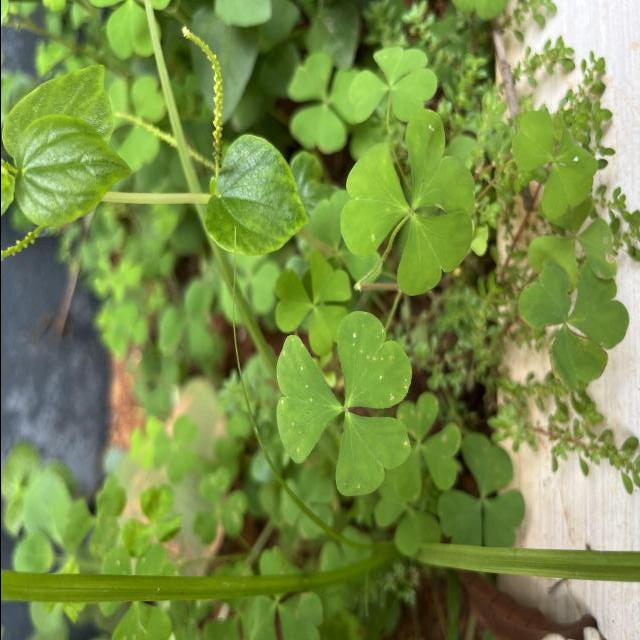Oxalis corniculata: (337, 106, 476, 298), (274, 308, 412, 498), (516, 259, 630, 391), (508, 108, 600, 222), (346, 45, 438, 124)
